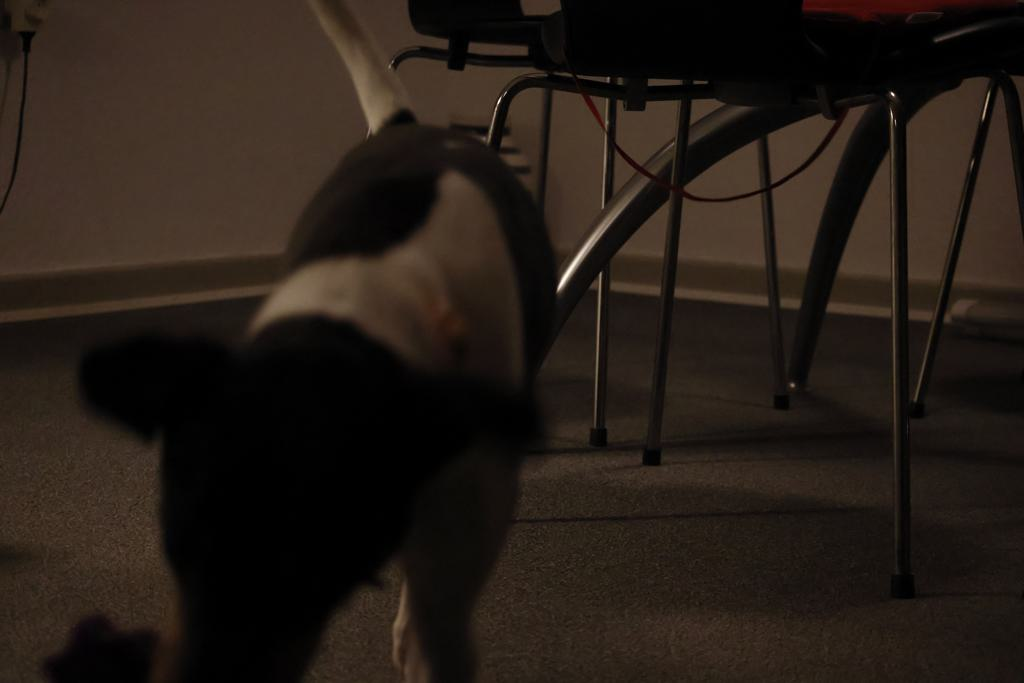Dog: (63, 0, 579, 683)
